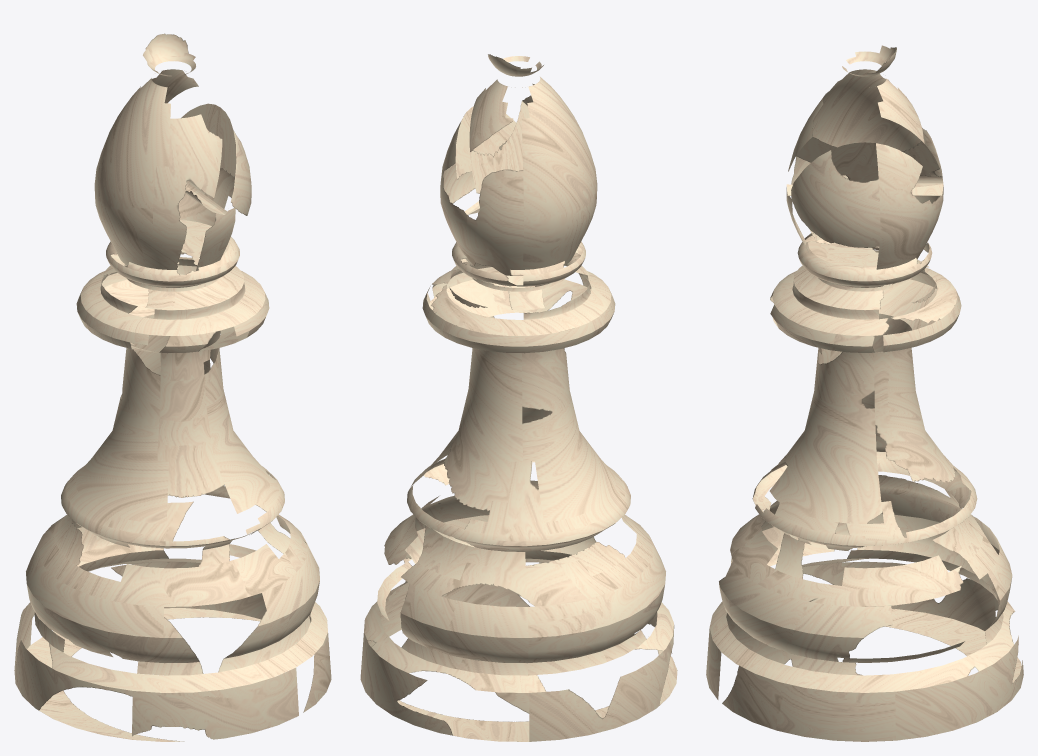
The model's file is Bishop.fbx.
3 renders of one model, left to right at view 1: azimuth 30°, elevation 25°; view 2: azimuth 150°, elevation 25°; view 3: azimuth 270°, elevation 25°, orthographic.
Parts seen in each view (by area): view 1: Black bitshop; view 2: Black bitshop; view 3: Black bitshop.
Boxes of the visible parts, x1=… form: Black bitshop: x1=14, y1=33, x2=331, y2=741; Black bitshop: x1=360, y1=54, x2=677, y2=741; Black bitshop: x1=706, y1=45, x2=1023, y2=741.
Bounding box in the file's own units: 266 × 608 × 266.
